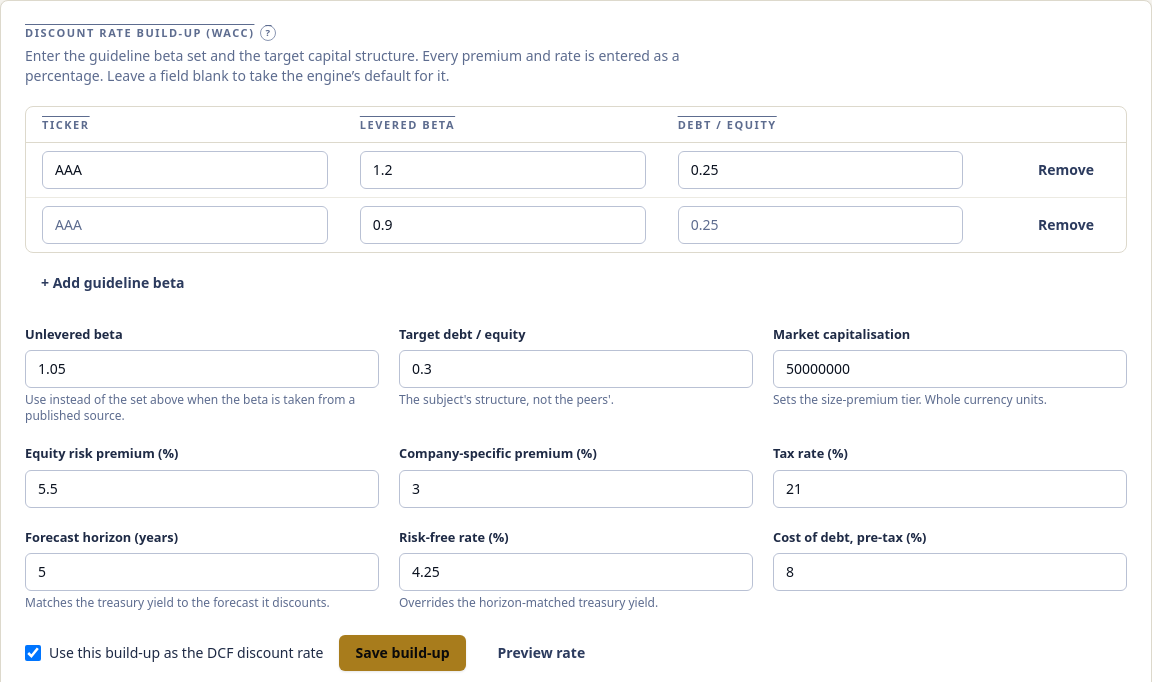
WaccPanel › saving › says the build-up will drive the rate when it is switched on
The image size is (1152, 682).
Click the button "Save build-up" at (403, 653), box x1=340 y1=635 x2=466 y2=671
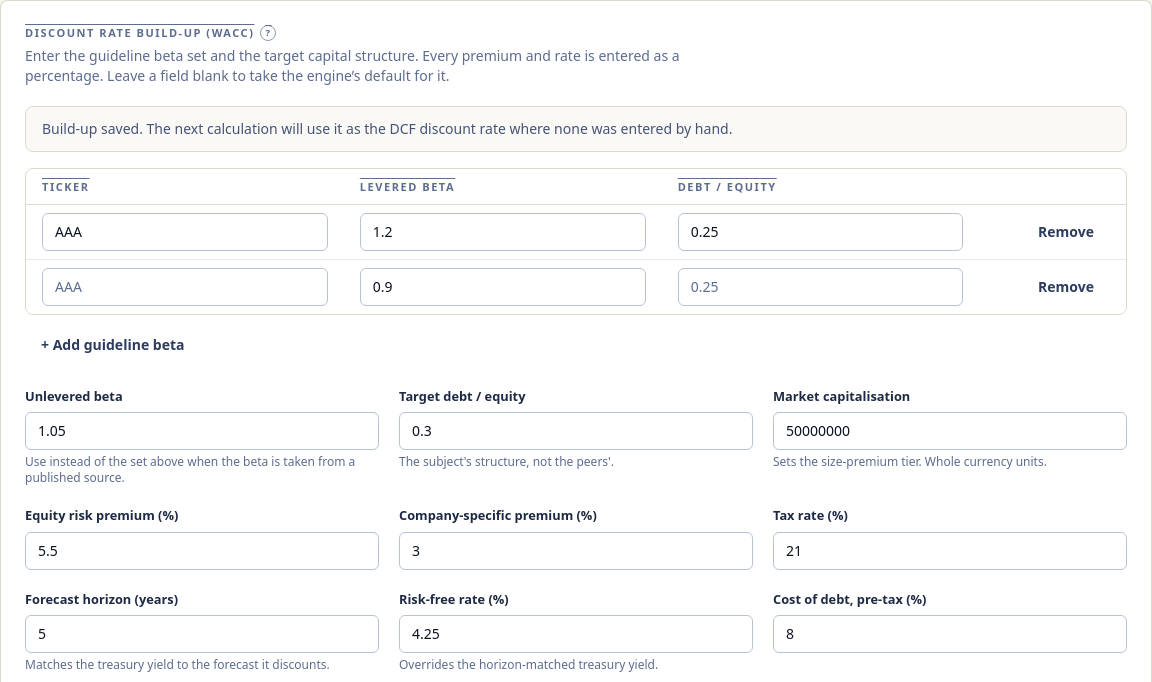
Expected: the text "will use it as the DCF discount rate" is shown, x1=42 y1=118 x2=732 y2=138
